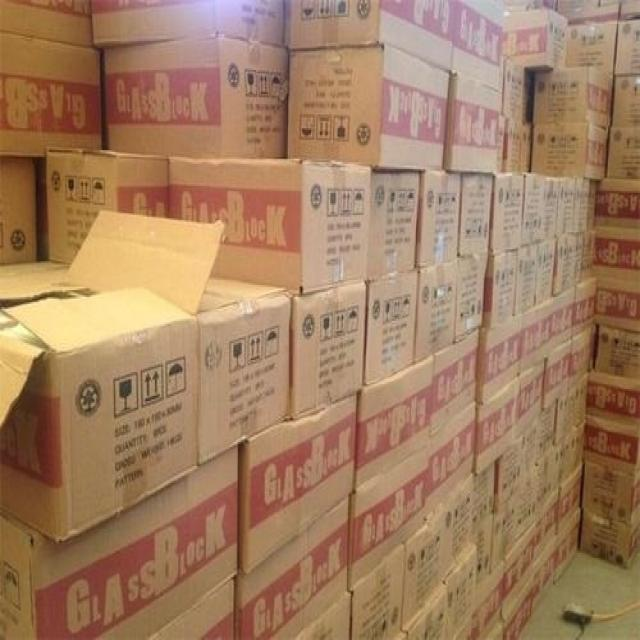box: (0, 207, 224, 541), (0, 445, 239, 640), (168, 155, 371, 299), (101, 36, 288, 157), (237, 396, 356, 573), (289, 43, 451, 169), (195, 273, 291, 468), (234, 495, 349, 640), (45, 148, 170, 265), (0, 31, 101, 157), (285, 0, 458, 72), (348, 447, 429, 587), (289, 283, 366, 420), (355, 355, 433, 490), (91, 0, 285, 46), (365, 271, 417, 389), (443, 70, 503, 172), (426, 401, 476, 522), (430, 329, 479, 444), (145, 577, 234, 640), (371, 171, 419, 282), (402, 507, 443, 630), (351, 544, 402, 640), (412, 258, 458, 364), (532, 119, 608, 183), (475, 374, 521, 476), (452, 0, 502, 92), (534, 67, 611, 126), (522, 290, 575, 375), (415, 172, 461, 268), (502, 5, 566, 72), (0, 0, 91, 46), (475, 312, 521, 403), (440, 473, 475, 587), (0, 157, 37, 263), (580, 505, 640, 570), (582, 463, 640, 526), (442, 539, 476, 640), (454, 251, 490, 343), (291, 585, 349, 640), (585, 415, 640, 473), (458, 172, 493, 259), (393, 584, 447, 640), (481, 247, 516, 328), (493, 490, 527, 572), (489, 174, 524, 253), (588, 372, 640, 425), (529, 488, 558, 582), (567, 22, 617, 75), (594, 275, 640, 331), (0, 259, 70, 295), (595, 323, 640, 379), (591, 227, 640, 278), (476, 558, 504, 640), (493, 435, 522, 514), (595, 179, 640, 229), (503, 536, 531, 616), (530, 544, 558, 618), (558, 459, 584, 534), (544, 340, 571, 410), (568, 324, 595, 393), (557, 505, 582, 579), (520, 362, 544, 437), (500, 56, 526, 123), (521, 172, 545, 244), (607, 125, 640, 177), (558, 420, 585, 483), (552, 232, 576, 300), (504, 582, 532, 640), (515, 244, 538, 314), (536, 444, 561, 507), (474, 463, 494, 541), (556, 0, 620, 24), (614, 19, 640, 77), (534, 242, 557, 307), (612, 73, 640, 125), (521, 469, 545, 529), (575, 275, 598, 336), (448, 599, 480, 640), (475, 515, 493, 587), (554, 386, 575, 447), (538, 401, 556, 468), (524, 416, 540, 490), (541, 179, 559, 242), (557, 179, 576, 236), (575, 232, 595, 285), (504, 118, 522, 174), (572, 179, 589, 234), (573, 374, 589, 428), (522, 121, 534, 174), (586, 181, 598, 232), (481, 616, 506, 640), (495, 116, 504, 172), (620, 0, 640, 22)
